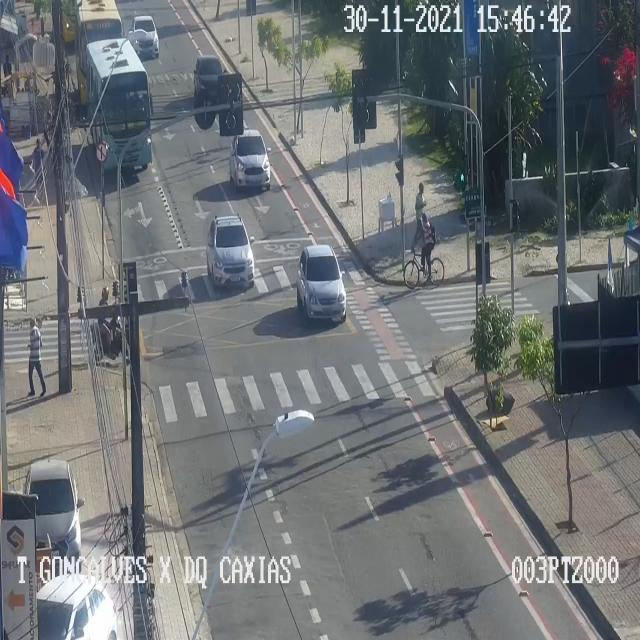Bus: (86, 37, 152, 172), (74, 0, 125, 112)
Car: (25, 460, 80, 570), (37, 573, 117, 639), (296, 244, 346, 320), (206, 215, 254, 285), (229, 129, 270, 188), (193, 54, 224, 104), (129, 15, 159, 56)
Motorcycle: (90, 286, 130, 364)
